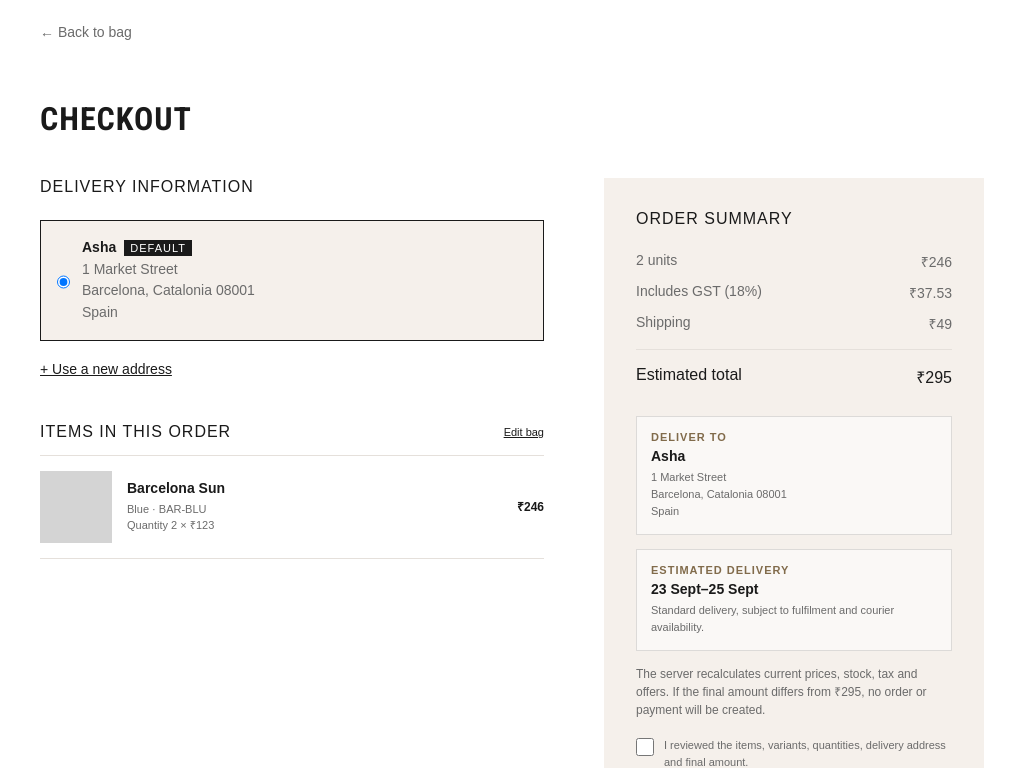
Test: requires review of exact variants, address and final total before placing order
expect the text "Barcelona Sun" is shown: met, box [127,480,225,496]
expect the text "Blue · BAR-BLU" is shown: met, box [127,503,206,515]
Click the checkbox labelled "I reviewed the items, variants, quantities" at (645, 747), box [636,738,654,756]
(page scrolled)
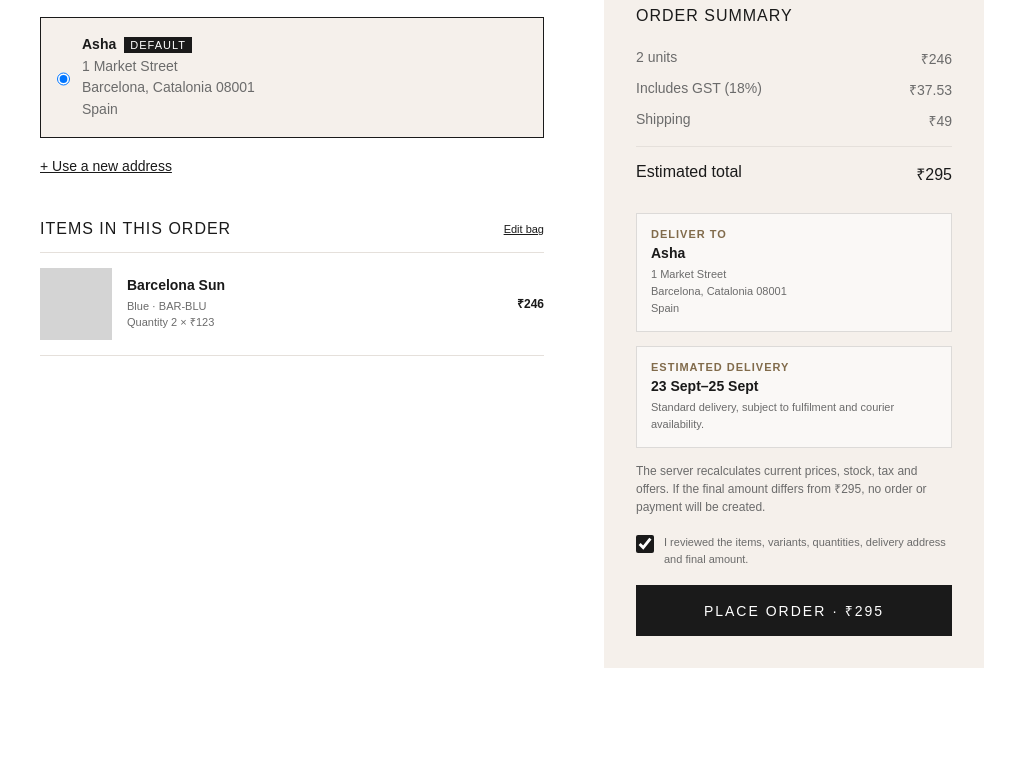
expect the button "Place order · ₹295" is enabled: met, box [636,585,952,636]
